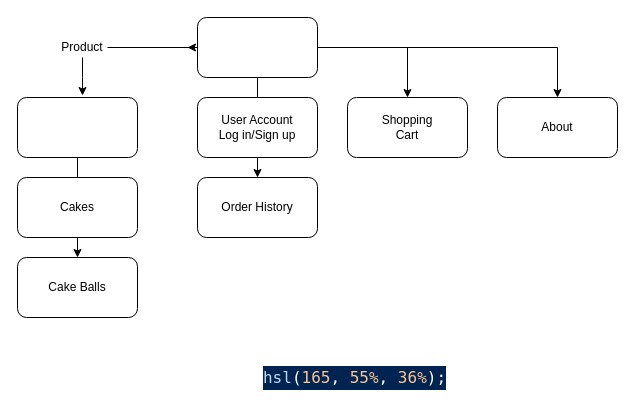
Some shapes in this 635 by 407 pixel diagram are drawn without their labels. Each missing label, with the centre of its shape:
"Cookies" belongs at [77,127].
"home" belongs at [257,47].
